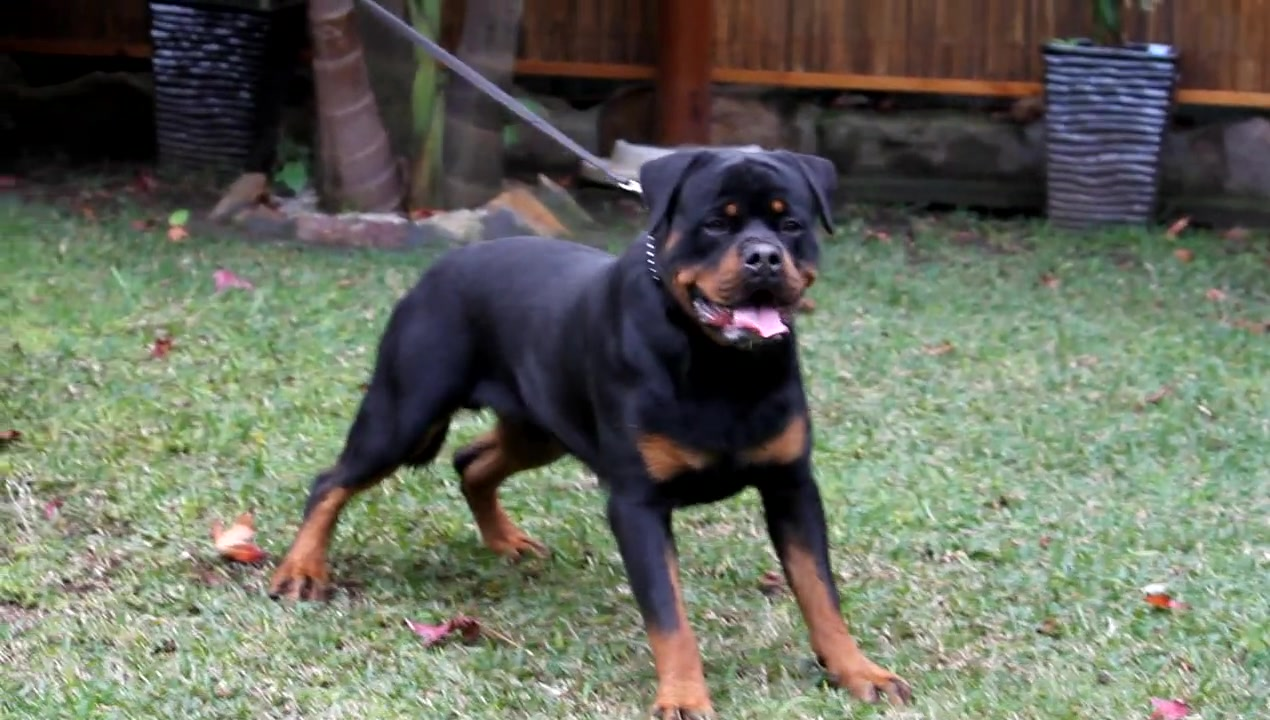dog: (265, 146, 921, 719)
